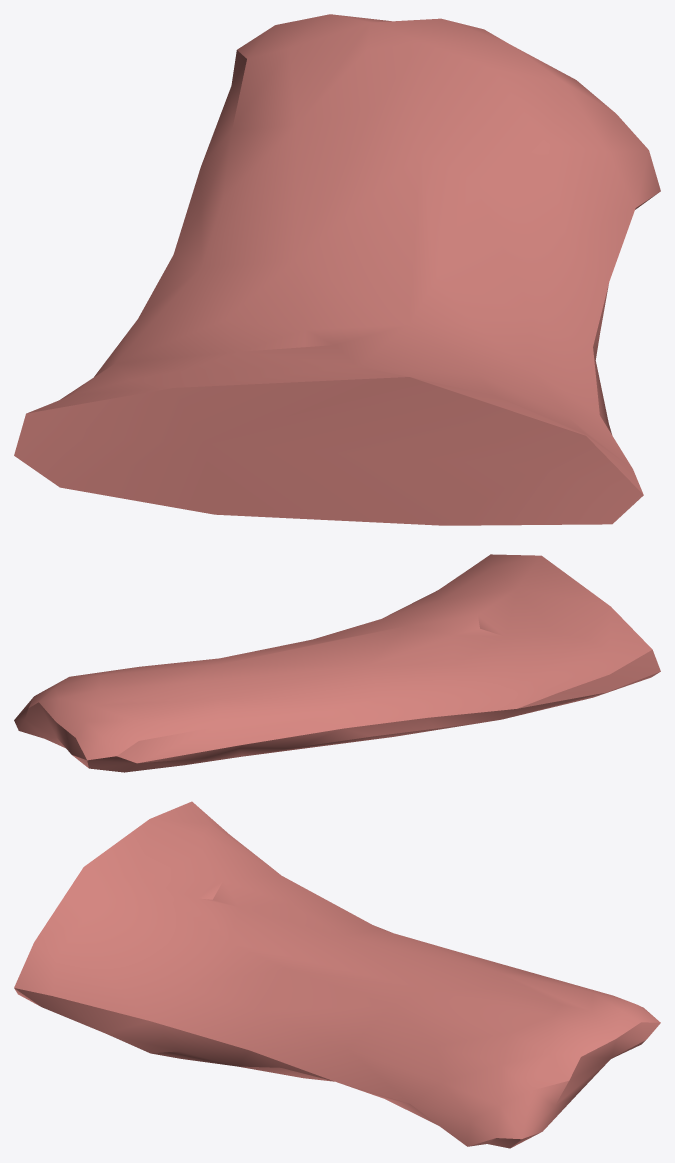
The model's file is fma54159-n_mm2209m.glb.
The picture shows the model from 3 angles, top to bottom: view 1: azimuth 30°, elevation 25°; view 2: azimuth 150°, elevation 25°; view 3: azimuth 270°, elevation 25°; orthographic projection. The views are drawn at different scales.
Visible parts, largest first — view 1: FMA54159-N_MM2209M; view 2: FMA54159-N_MM2209M; view 3: FMA54159-N_MM2209M.
Part boxes in pixels (x1=…): FMA54159-N_MM2209M: x1=14, y1=14, x2=660, y2=525; FMA54159-N_MM2209M: x1=14, y1=554, x2=660, y2=772; FMA54159-N_MM2209M: x1=14, y1=801, x2=660, y2=1148.
Bounding box in the file's own units: 0.00871 × 0.00182 × 0.0092.
